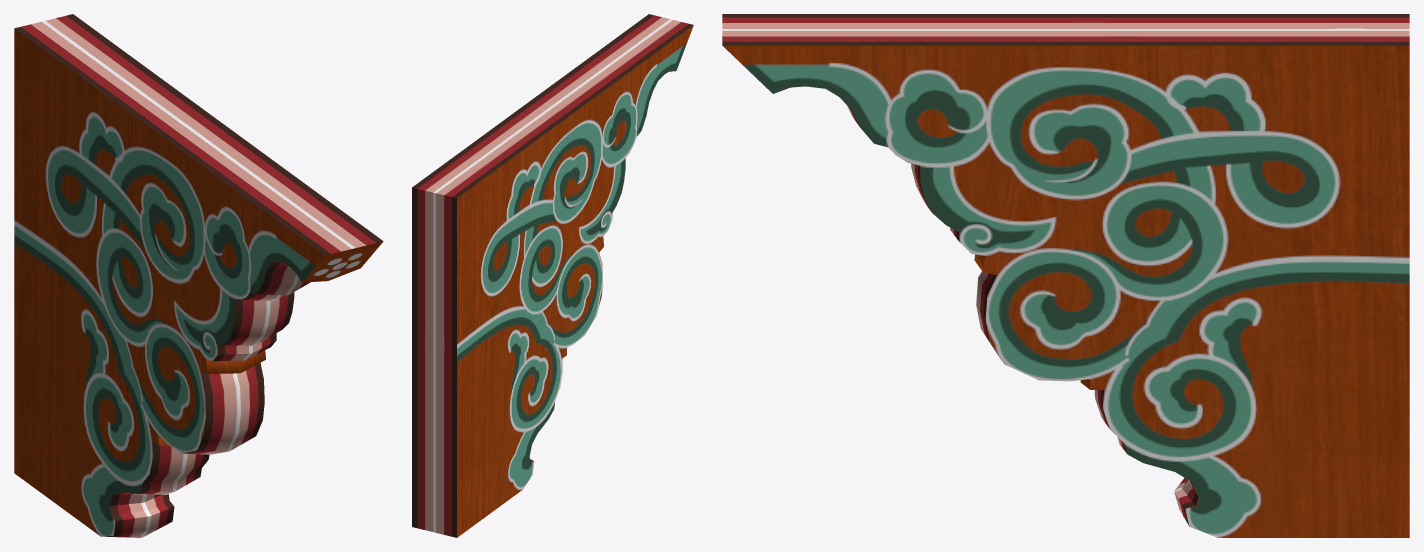
The model's file is SM_Boaji06A.fbx.
3 views of the same model, side by side, from view 1: azimuth 30°, elevation 25°; view 2: azimuth 150°, elevation 25°; view 3: azimuth 270°, elevation 25° (orthographic). The views are drawn at different scales.
Parts seen in each view (by area): view 1: SM_Boaji06A; view 2: SM_Boaji06A; view 3: SM_Boaji06A.
Boxes of the visible parts, x1,y1,x2,y2 form: SM_Boaji06A: [14, 14, 383, 537]; SM_Boaji06A: [412, 14, 693, 537]; SM_Boaji06A: [722, 14, 1409, 537].
Bounding box in the file's own units: 6.75 × 61.67 × 48.75.
